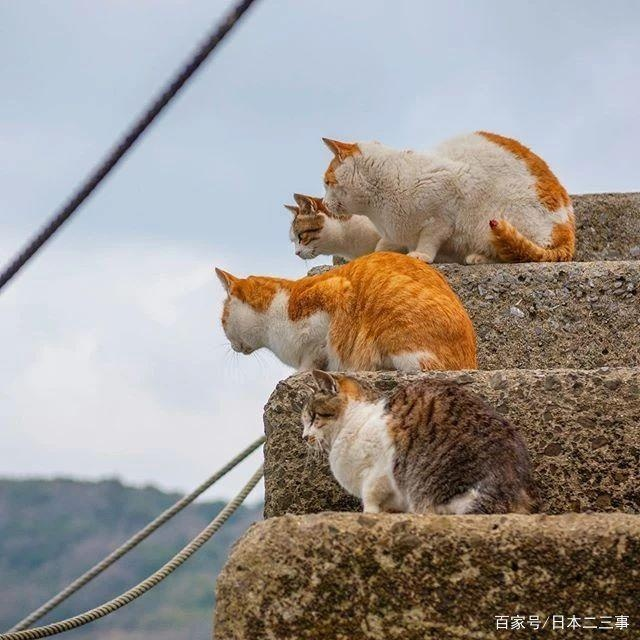cat: (299, 370, 541, 513), (321, 130, 577, 263), (214, 251, 478, 372), (282, 192, 379, 260)
